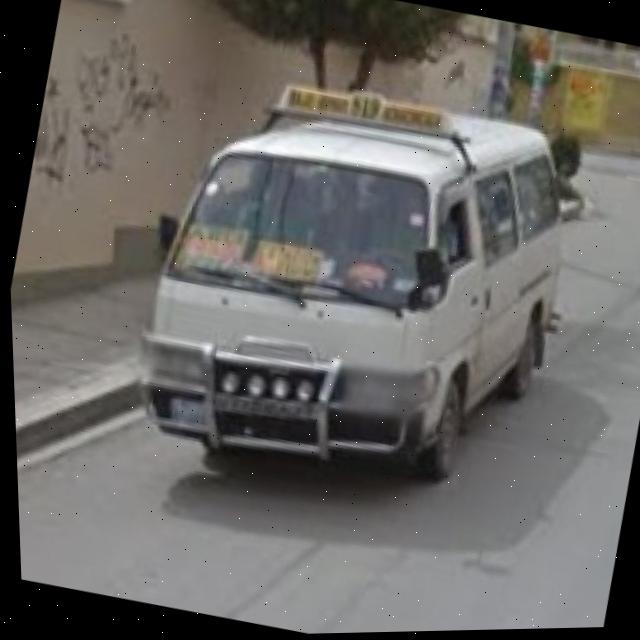vehicle: (113, 63, 589, 518)
